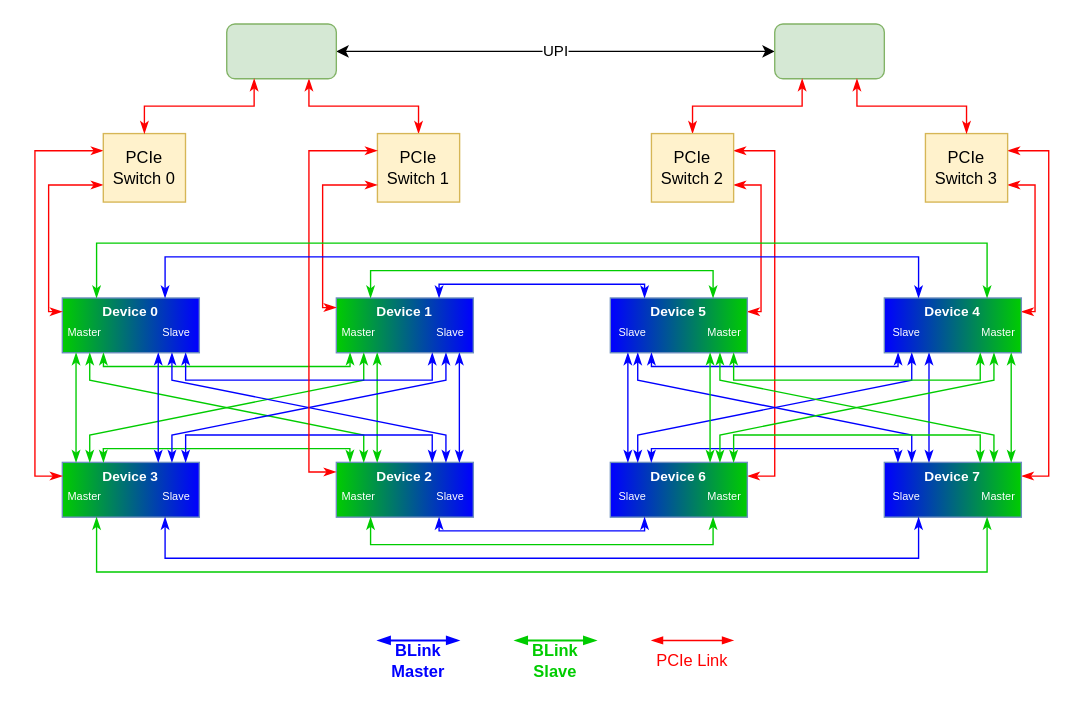
Image size: 1085x706. Some labels were removed from this diagram. Each missing label, with the centre of its shape:
"CPU 0" belongs at point (280, 51).
"CPU 1" belongs at point (828, 51).
